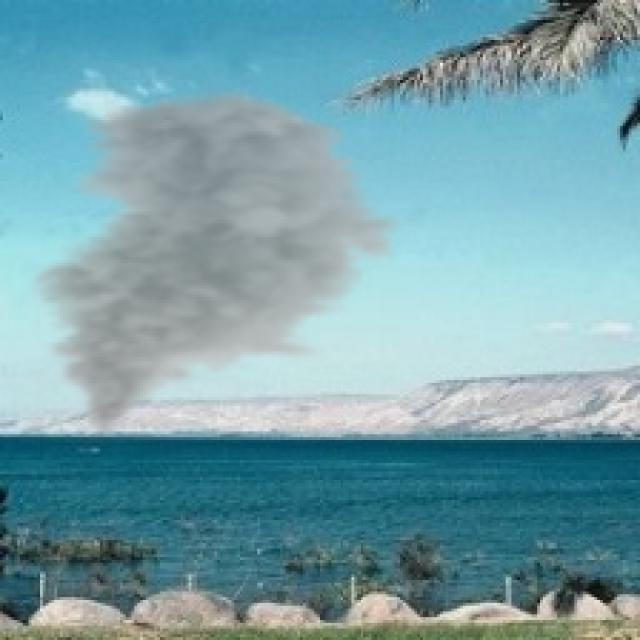Smoke: (19, 86, 412, 437)
